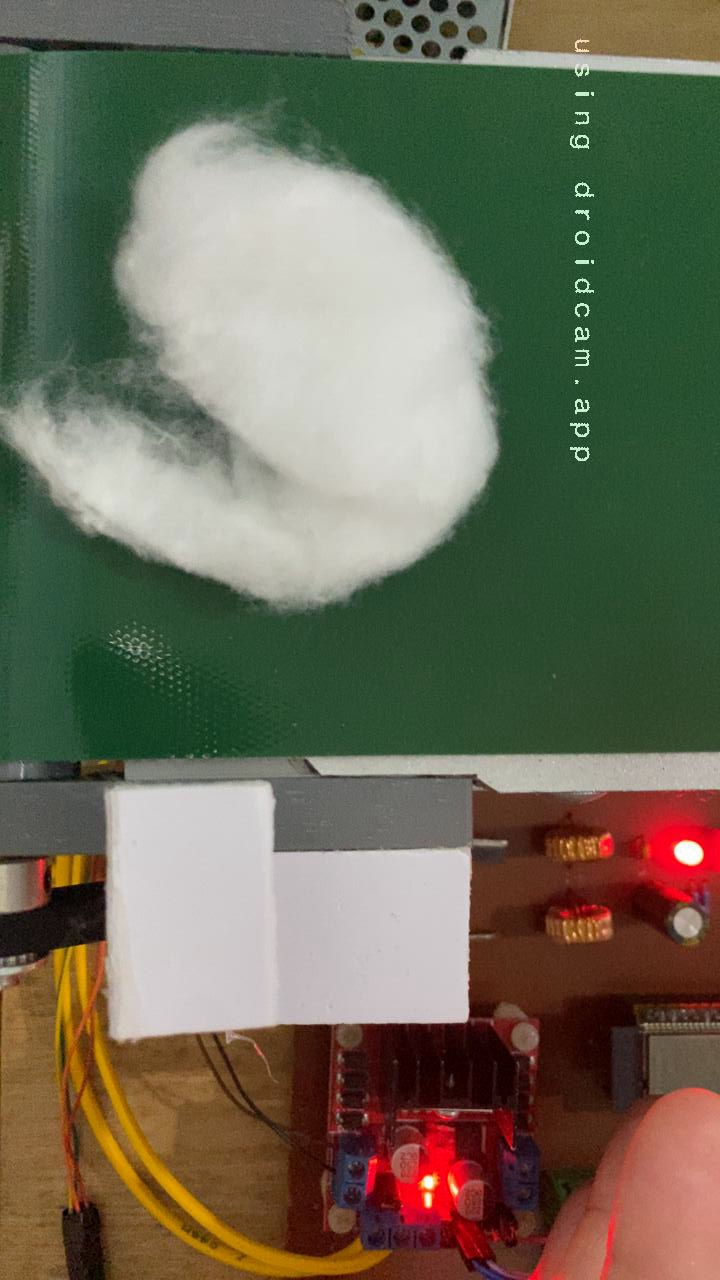cotton: (0, 112, 508, 617)
